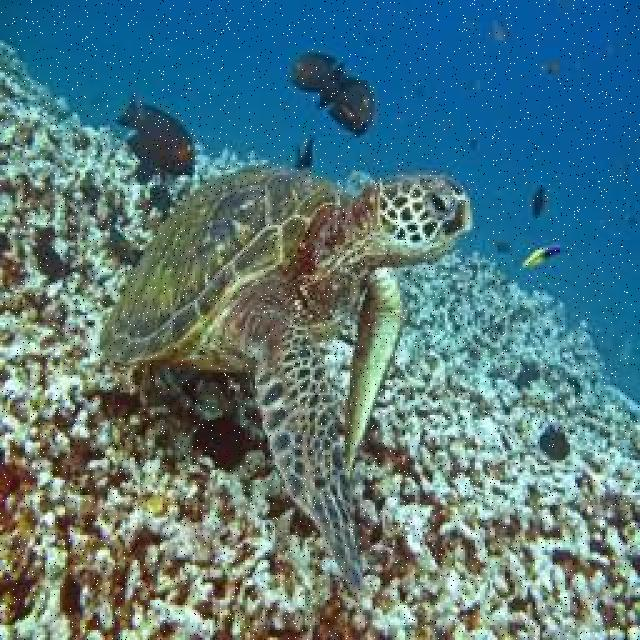fish: (101, 96, 475, 592), (317, 63, 376, 137), (288, 52, 337, 91)
reefs: (0, 38, 638, 638)
